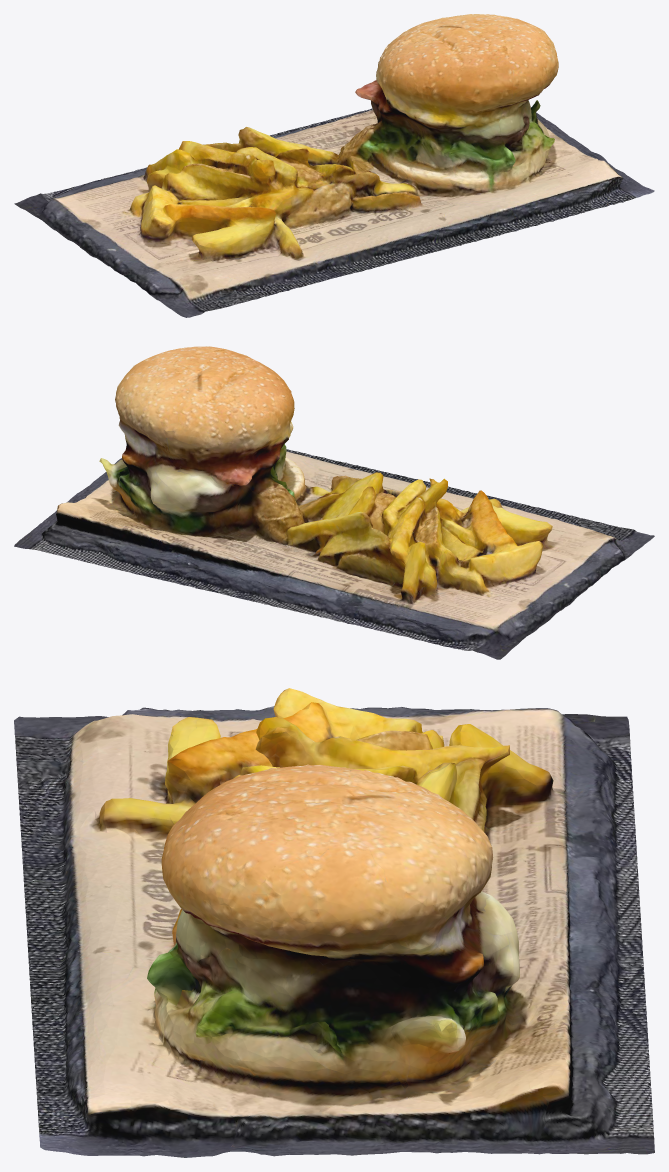
Rendered from asset.glb.
The picture shows the model from 3 angles, top to bottom: view 1: azimuth 30°, elevation 25°; view 2: azimuth 150°, elevation 25°; view 3: azimuth 270°, elevation 25°; orthographic projection. The views are drawn at different scales.
Parts seen in each view (by area): view 1: Mesh_0.001; view 2: Mesh_0.001; view 3: Mesh_0.001.
Part boxes in pixels (bbox=[...]): Mesh_0.001: bbox=[14, 14, 654, 317]; Mesh_0.001: bbox=[14, 346, 654, 659]; Mesh_0.001: bbox=[14, 688, 654, 1157].
Bounding box in the file's own units: 0.8069 × 0.2228 × 0.4886.
1 material, 1 textured.
